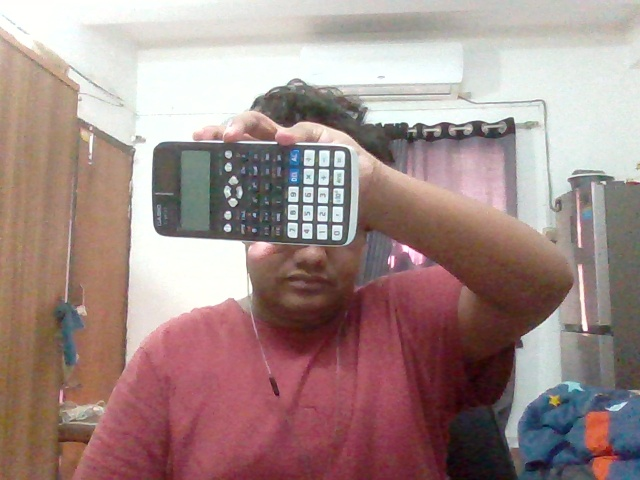calculator: (149, 140, 359, 247)
